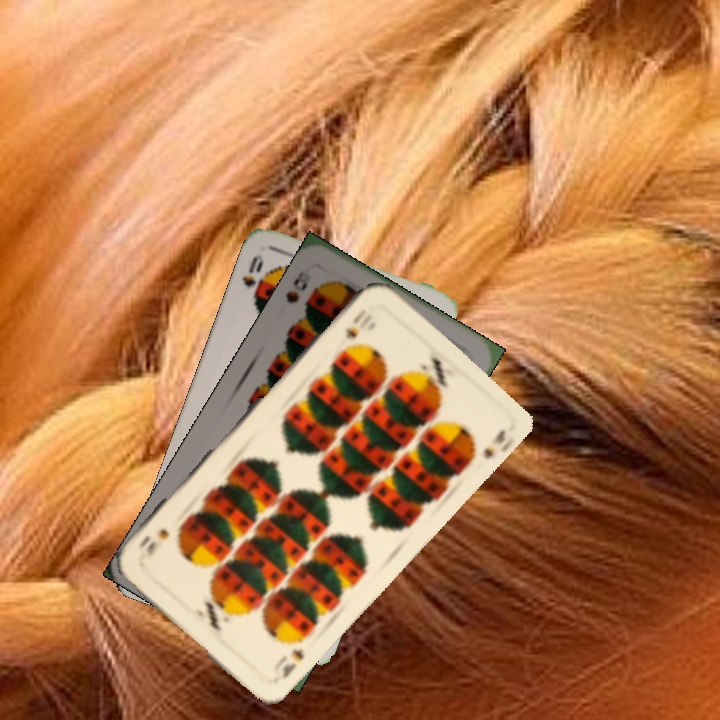S10: (278, 631, 307, 681), (341, 305, 369, 342)
S8: (281, 274, 310, 306)
SO: (237, 250, 267, 290)
